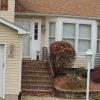stairs: (17, 55, 51, 94)
